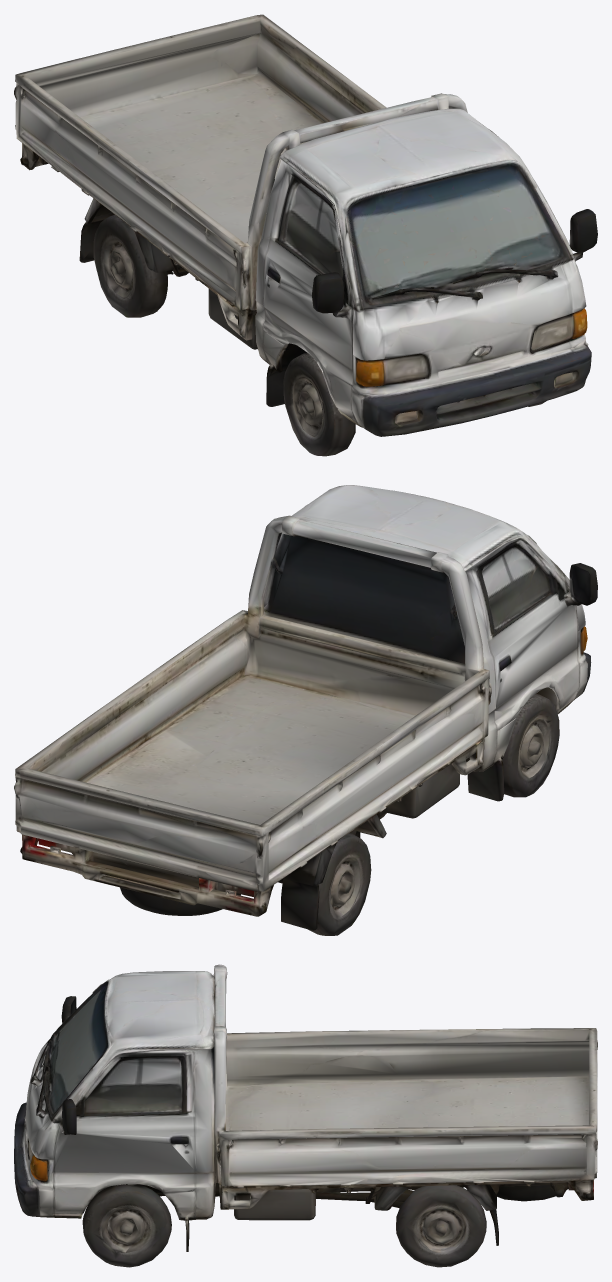
The picture shows the model from 3 angles, top to bottom: view 1: azimuth 30°, elevation 25°; view 2: azimuth 150°, elevation 25°; view 3: azimuth 270°, elevation 25°; orthographic projection. The views are drawn at different scales.
Visible parts, largest first — view 1: node_0; view 2: node_0; view 3: node_0.
Part boxes in pixels (x1,y1,x2,y2): node_0: (14, 14, 597, 456); node_0: (14, 485, 597, 935); node_0: (14, 964, 597, 1267).
Size of the model in its own units: 0.5122 by 0.473 by 1.11.
Materials: 1 (1 with a texture image).
